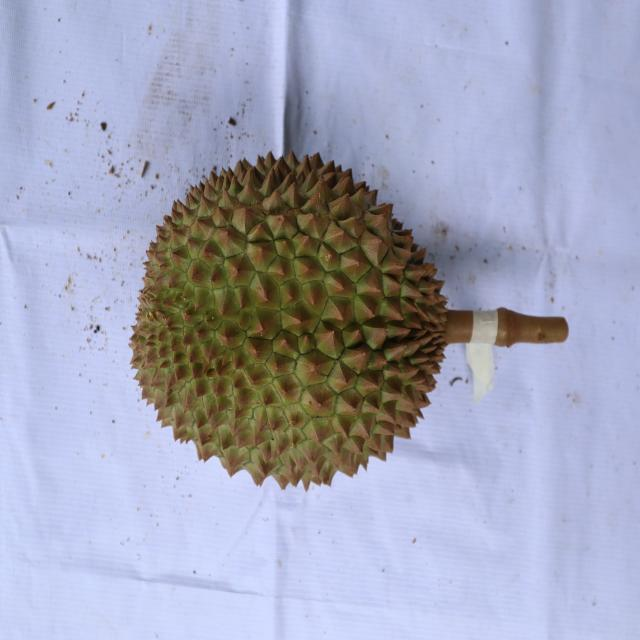mature: (127, 148, 449, 491)
